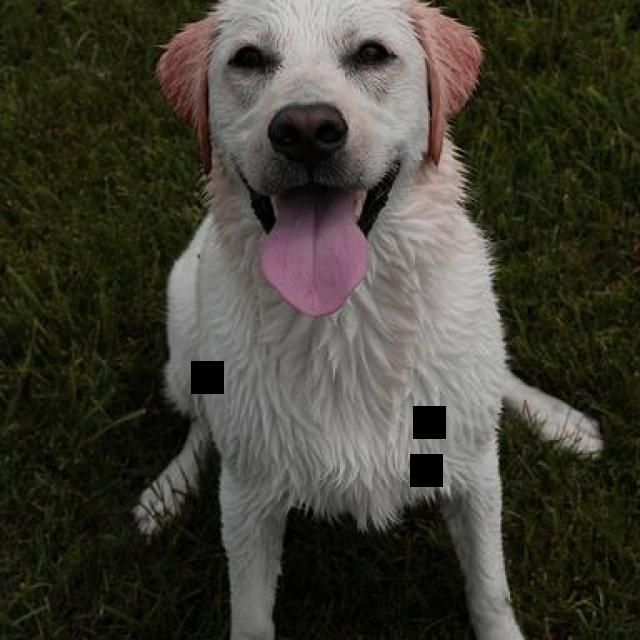adult_dog: (129, 1, 605, 640)
